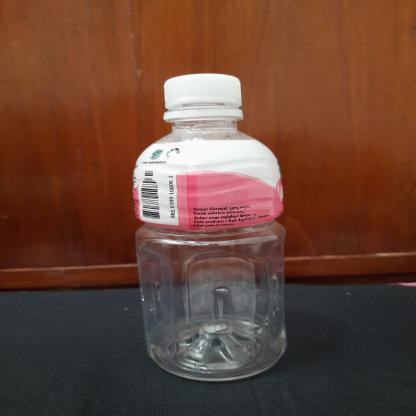bottle: (128, 70, 291, 386)
